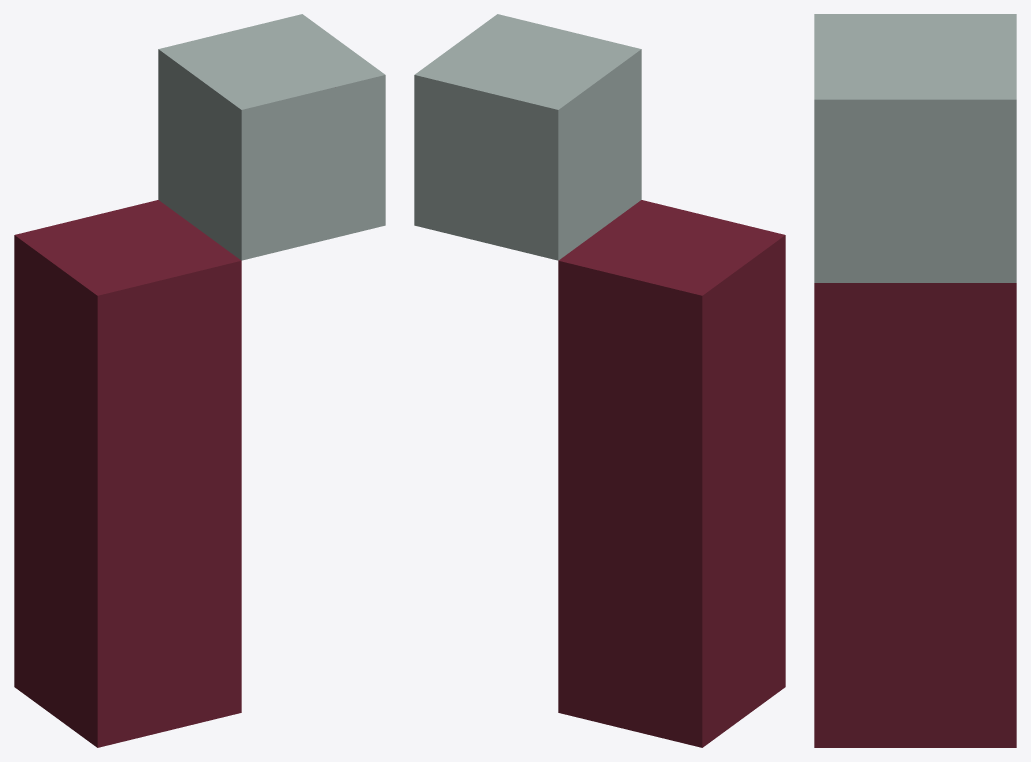
The model's file is dynamite_01.fbx.
3 views of the same model, side by side, from view 1: azimuth 30°, elevation 25°; view 2: azimuth 150°, elevation 25°; view 3: azimuth 270°, elevation 25° (orthographic). The views are drawn at different scales.
Visible parts, largest first — view 1: dynamite_01_0; view 2: dynamite_01_0; view 3: dynamite_01_0.
Boxes of the visible parts, <box> form: dynamite_01_0: <box>14,14,385,747</box>; dynamite_01_0: <box>414,14,785,747</box>; dynamite_01_0: <box>814,14,1016,747</box>.
Bounding box in the file's own units: 200 × 100 × 400.
